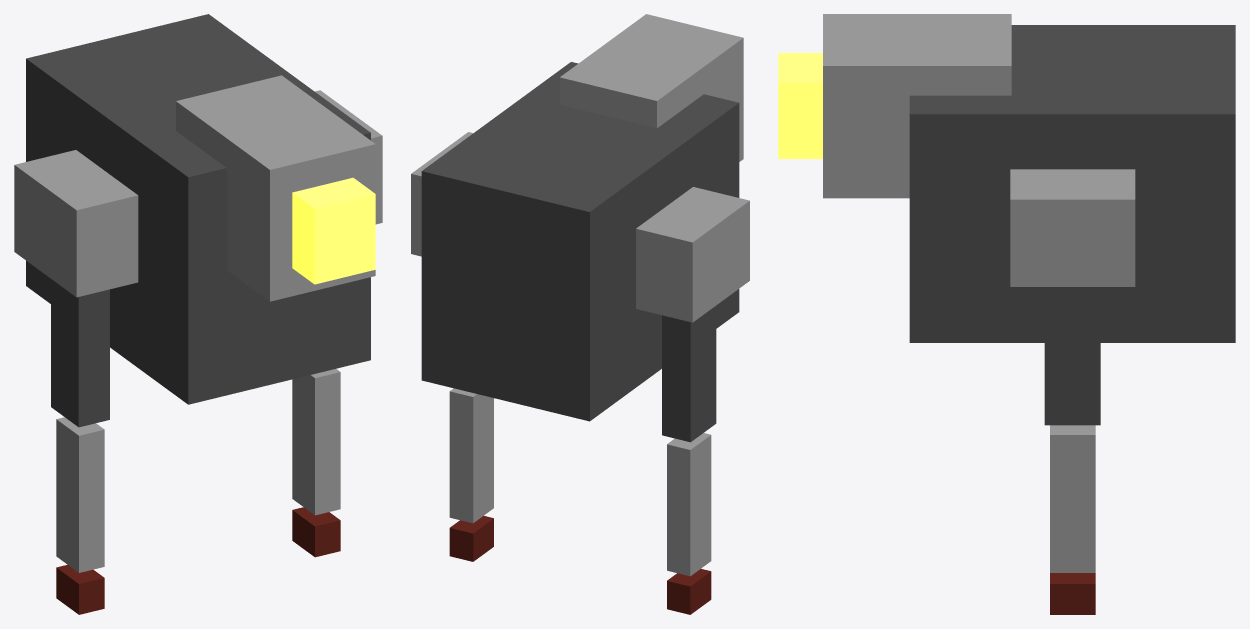
File: cuboid_robot.fbx
3 renders of one model, left to right at view 1: azimuth 30°, elevation 25°; view 2: azimuth 150°, elevation 25°; view 3: azimuth 270°, elevation 25°, orthographic. The views are drawn at different scales.
Parts seen in each view (by area): view 1: Body, Neck, Shoulder_L, Head, UpperArm_L, LowerArm_L, LowerArm_R, End_L, End_R, Shoulder_R; view 2: Body, Neck, Shoulder_L, UpperArm_L, LowerArm_L, LowerArm_R, End_L, End_R, Shoulder_R; view 3: Body, Neck, Shoulder_R, UpperArm_R, LowerArm_R, Head, End_R.
Part boxes in pixels (x1,y1,x2,y2): Body: [26, 14, 370, 404]; Neck: [176, 75, 375, 301]; Shoulder_L: [14, 150, 138, 297]; Head: [292, 177, 375, 284]; UpperArm_L: [51, 279, 109, 427]; LowerArm_L: [56, 417, 104, 572]; LowerArm_R: [292, 369, 340, 515]; End_L: [56, 564, 104, 614]; End_R: [292, 507, 340, 557]; Shoulder_R: [315, 90, 382, 224]; Body: [421, 62, 739, 421]; Neck: [559, 14, 743, 161]; Shoulder_L: [636, 187, 749, 322]; UpperArm_L: [662, 306, 716, 442]; LowerArm_L: [667, 433, 711, 576]; LowerArm_R: [449, 388, 493, 523]; End_L: [667, 569, 711, 614]; End_R: [449, 516, 493, 561]; Shoulder_R: [411, 132, 473, 256]; Body: [909, 25, 1235, 342]; Neck: [823, 14, 1011, 198]; Shoulder_R: [1010, 169, 1135, 286]; UpperArm_R: [1044, 287, 1100, 425]; LowerArm_R: [1050, 425, 1095, 572]; Head: [778, 53, 822, 158]; End_R: [1050, 573, 1095, 614].
Size of the model in its own units: 77.79 by 124 by 100.
